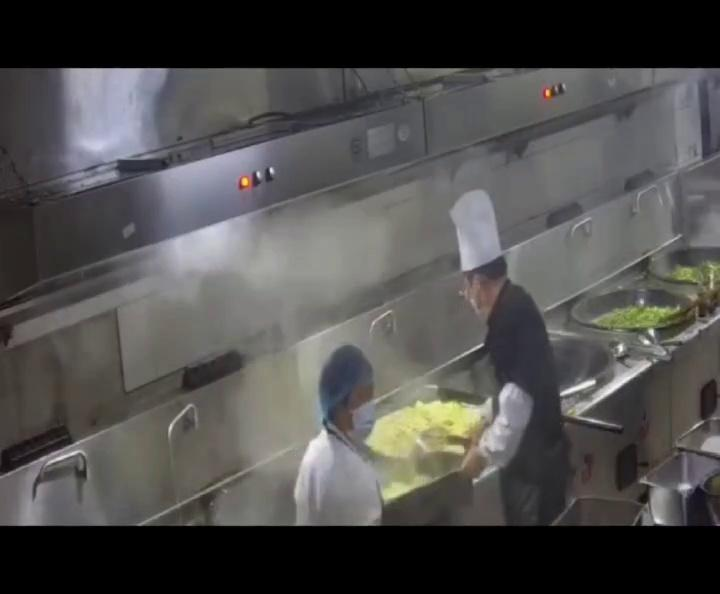gloves: (312, 341, 385, 405)
mask: (333, 402, 392, 448)
